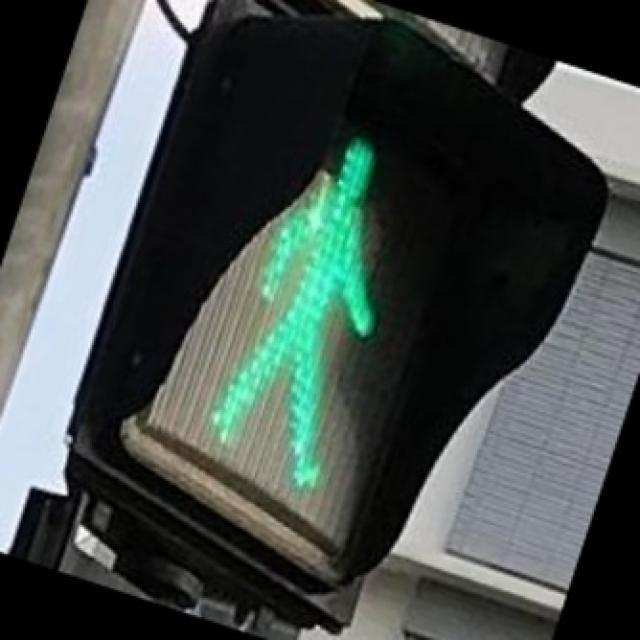green_light: (115, 69, 523, 564)
